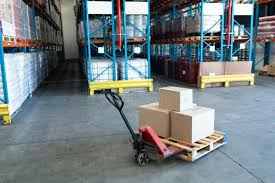Pallet Jack: (104, 91, 229, 168)
